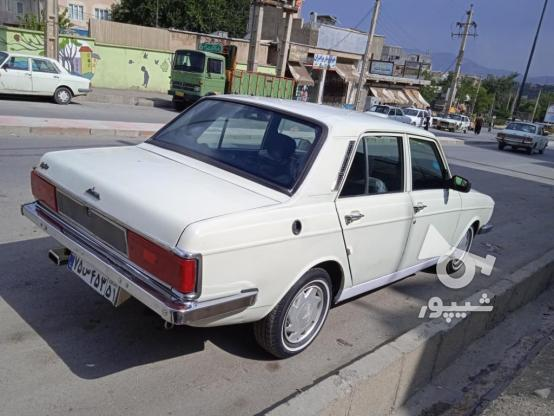car: (70, 251, 119, 306)
